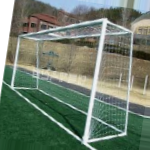goals: (10, 16, 135, 144)
